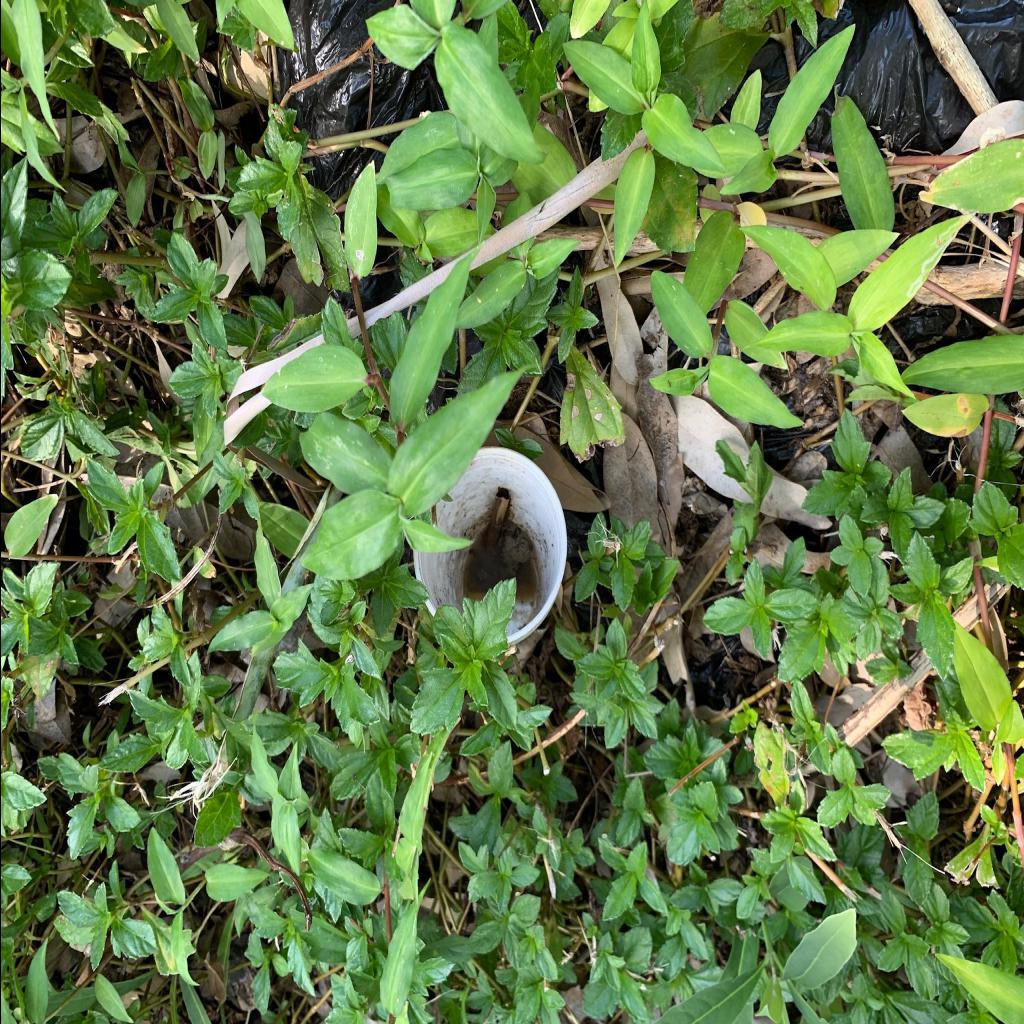Garbage bag: (721, 0, 1023, 357), (271, 0, 447, 200)
